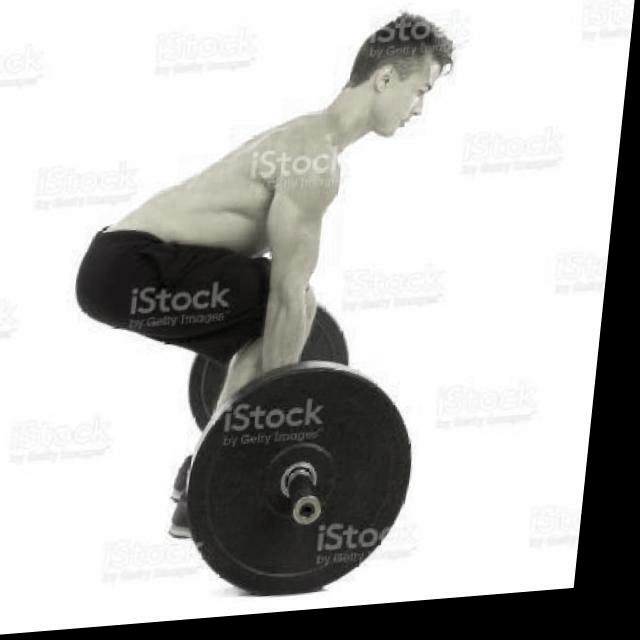barbell: (187, 357, 450, 615)
